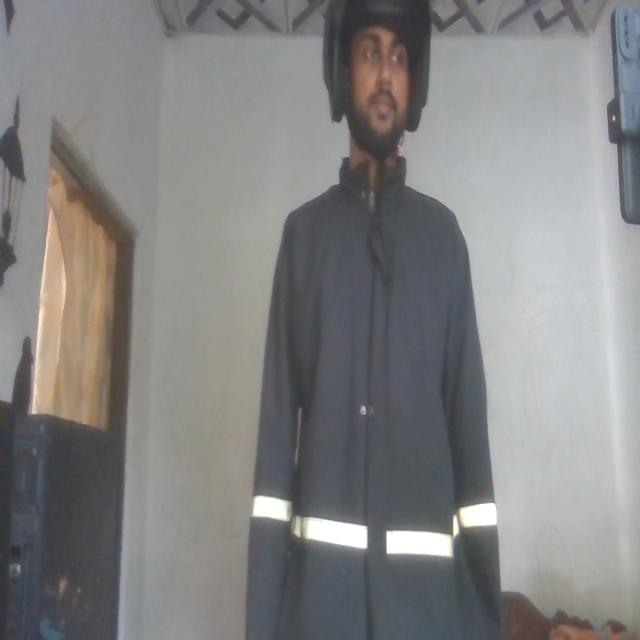Helmet_Wearer: (319, 0, 435, 187)
Jacket_Wearer: (256, 184, 492, 640)
Person: (249, 0, 503, 640)
